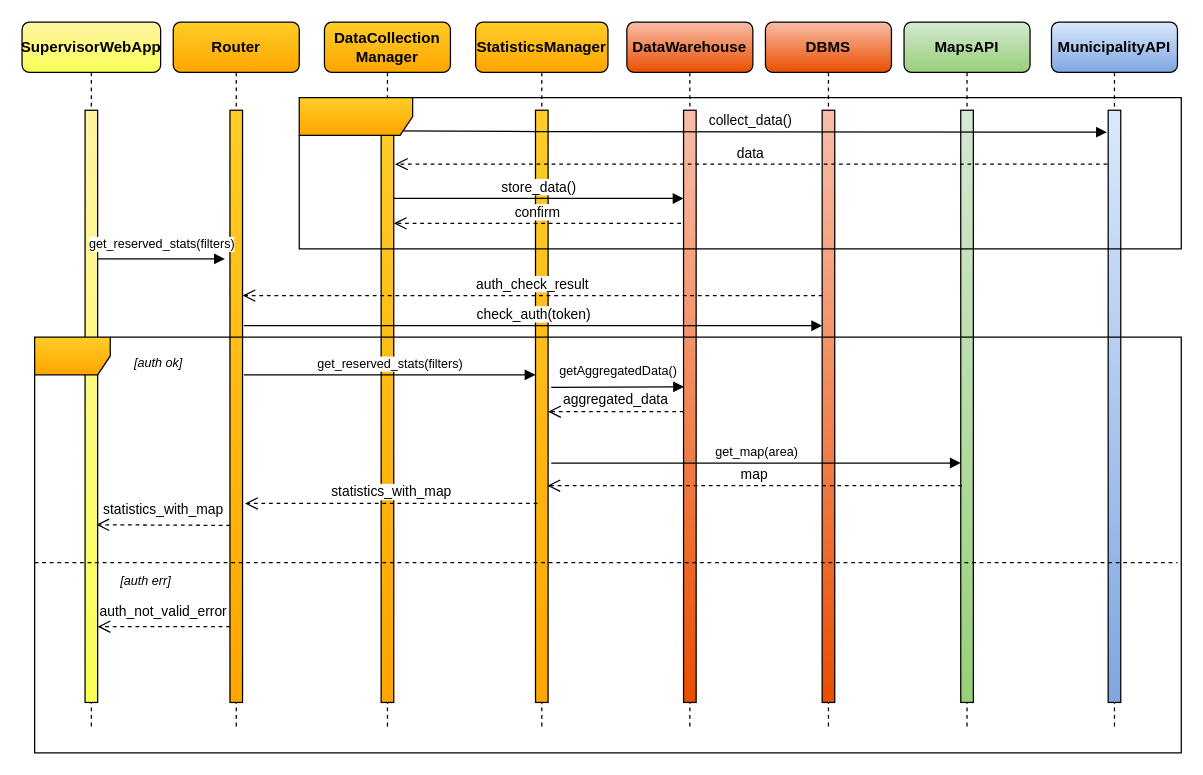
The diagram is 1203 pixels wide and 775 high, and some of its shapes have lost their labels. Each missing label, with the centre of its shape:
[alt]: point 607,544
[periodically]: point 739,172
